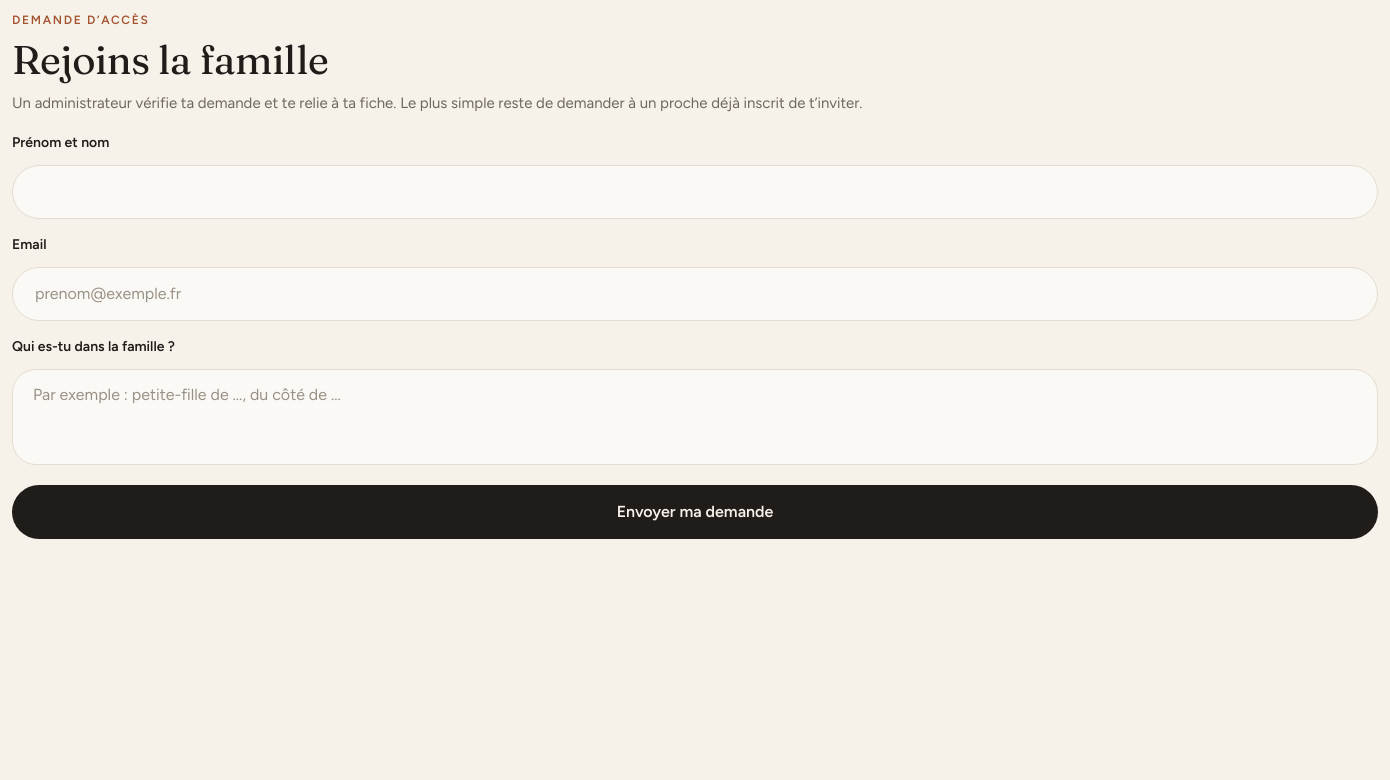
Test case: RequestAccessForm › affiche le refus
Step 1. Type "Xavier Roux" into the field labelled "Prénom et nom" → x=695, y=192, box 12,164 -> 1378,218
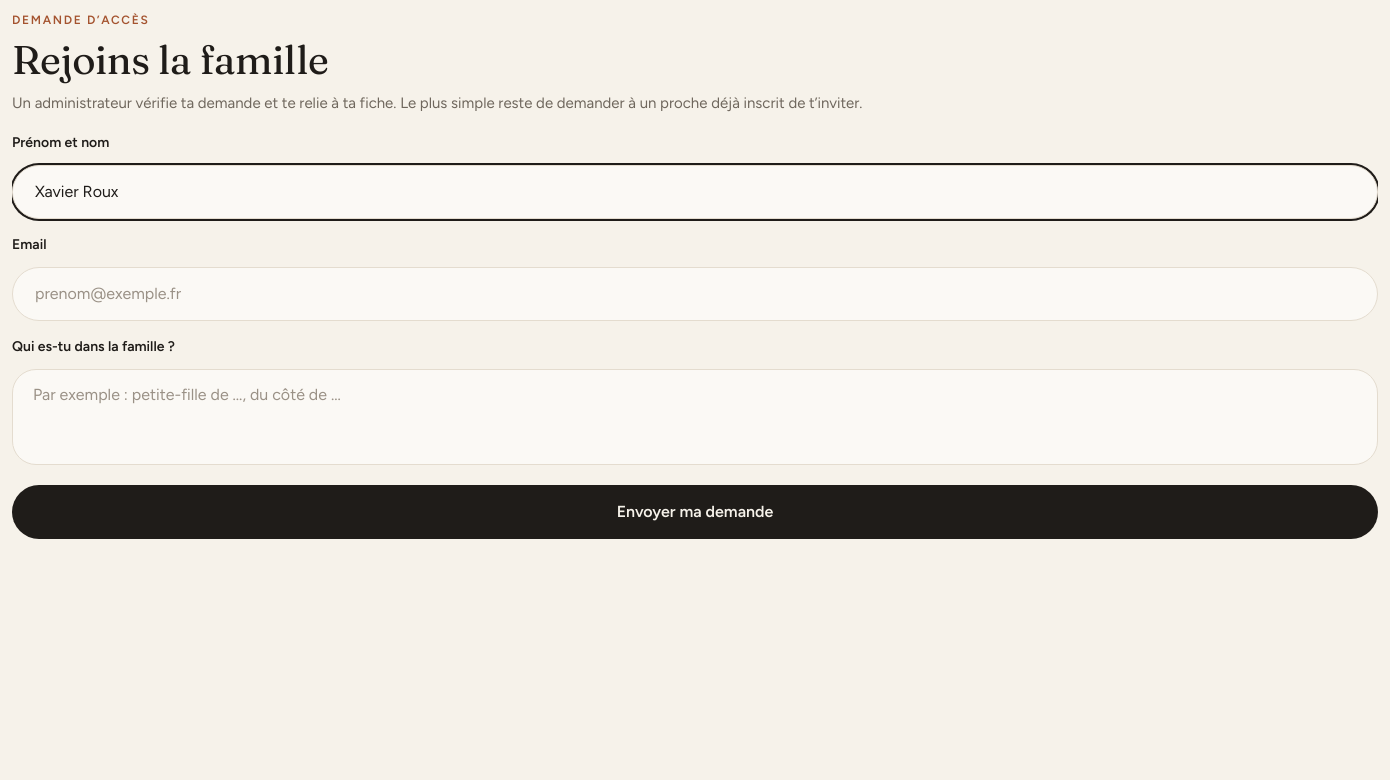
Step 2. Type "x@exemple.fr" into the field labelled "Email" → x=695, y=294, box 12,266 -> 1378,320
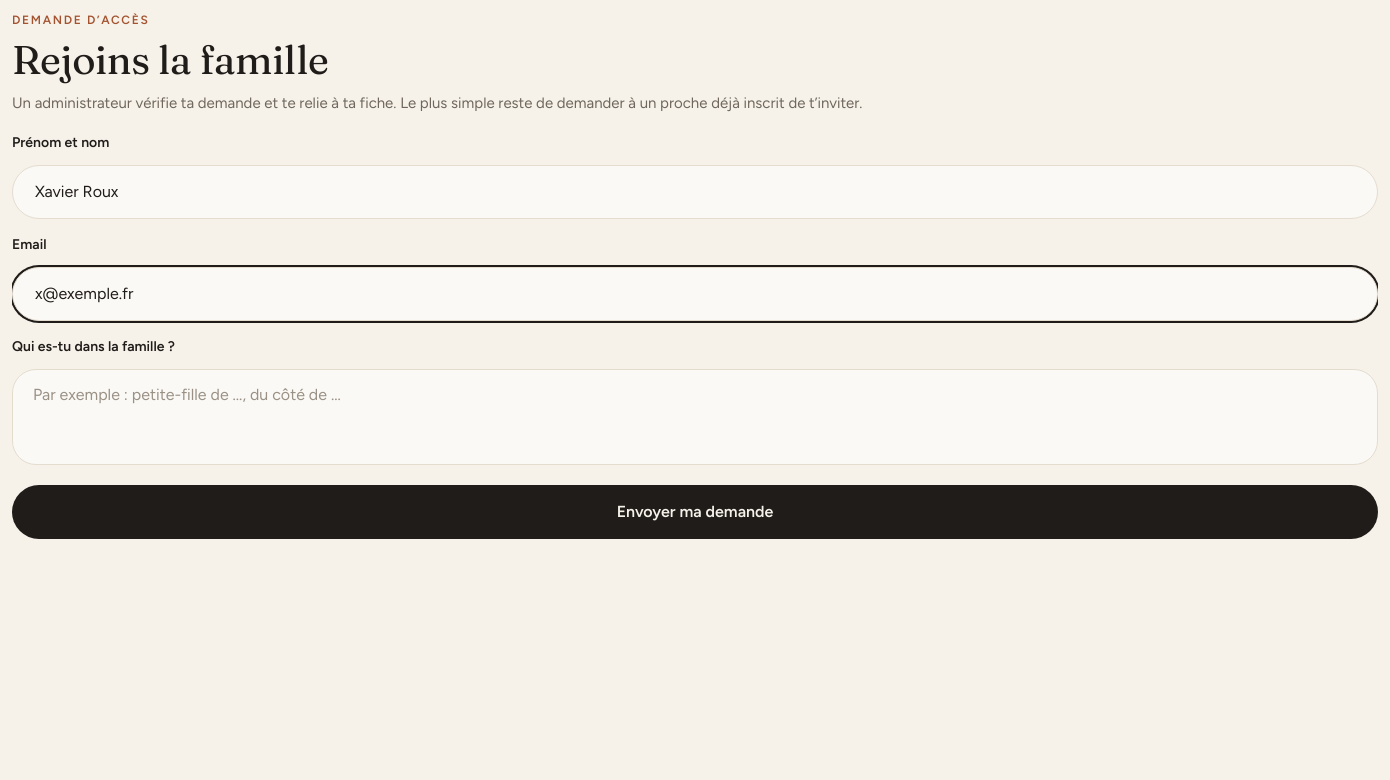
Step 3. Type "X" into the text box labelled "Qui es-tu dans la famille ?" → x=695, y=416, box 12,368 -> 1378,464
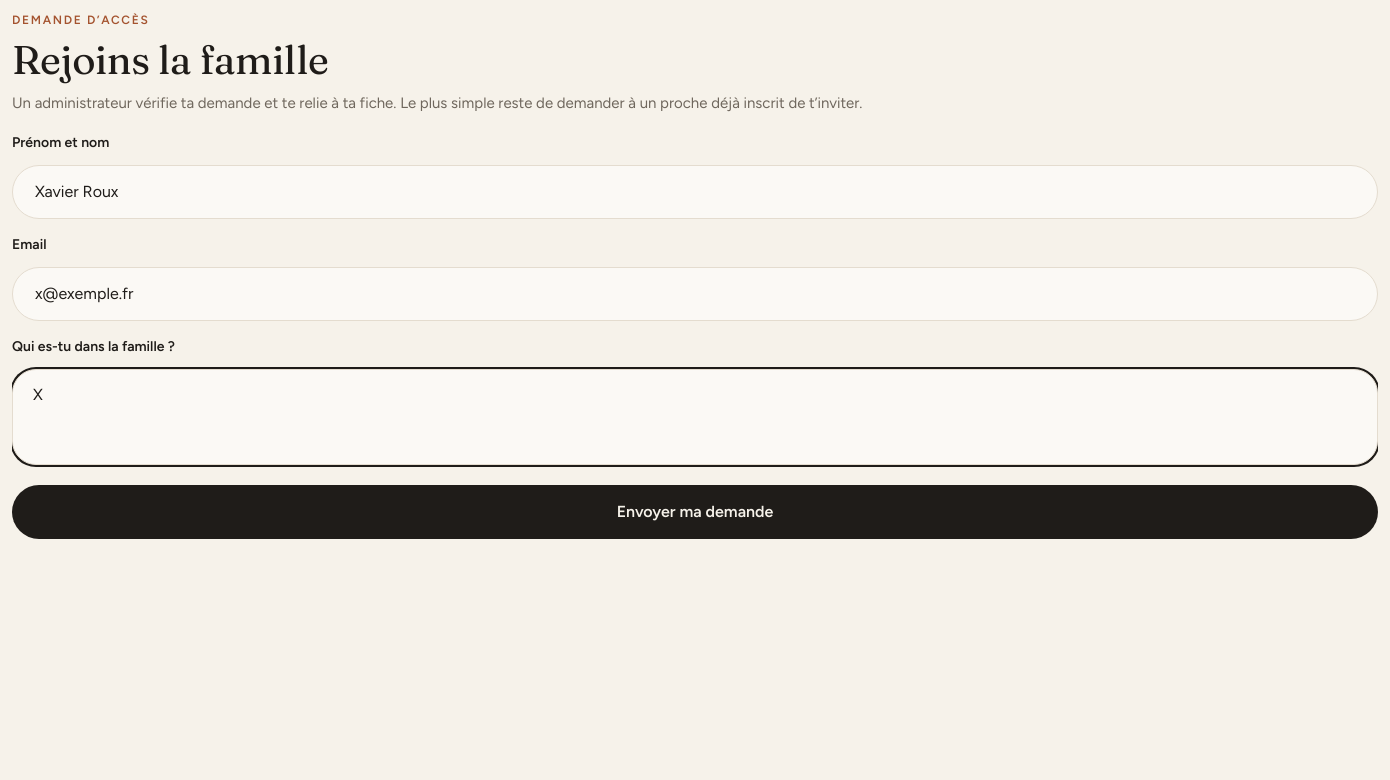
Step 4. Click the button "Envoyer ma demande" → x=695, y=512, box 12,484 -> 1378,538
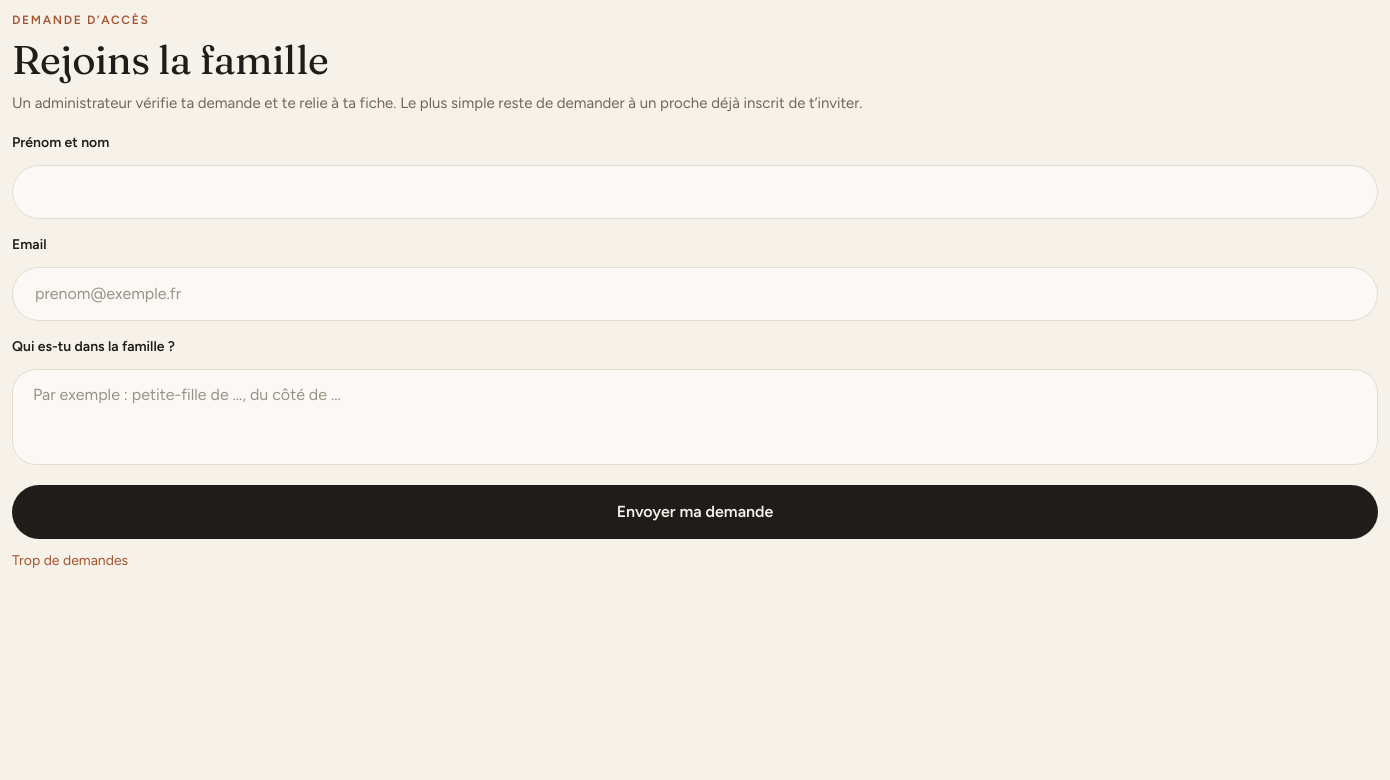
Expected: the message reads "Trop de demandes", 12,552 -> 128,568
